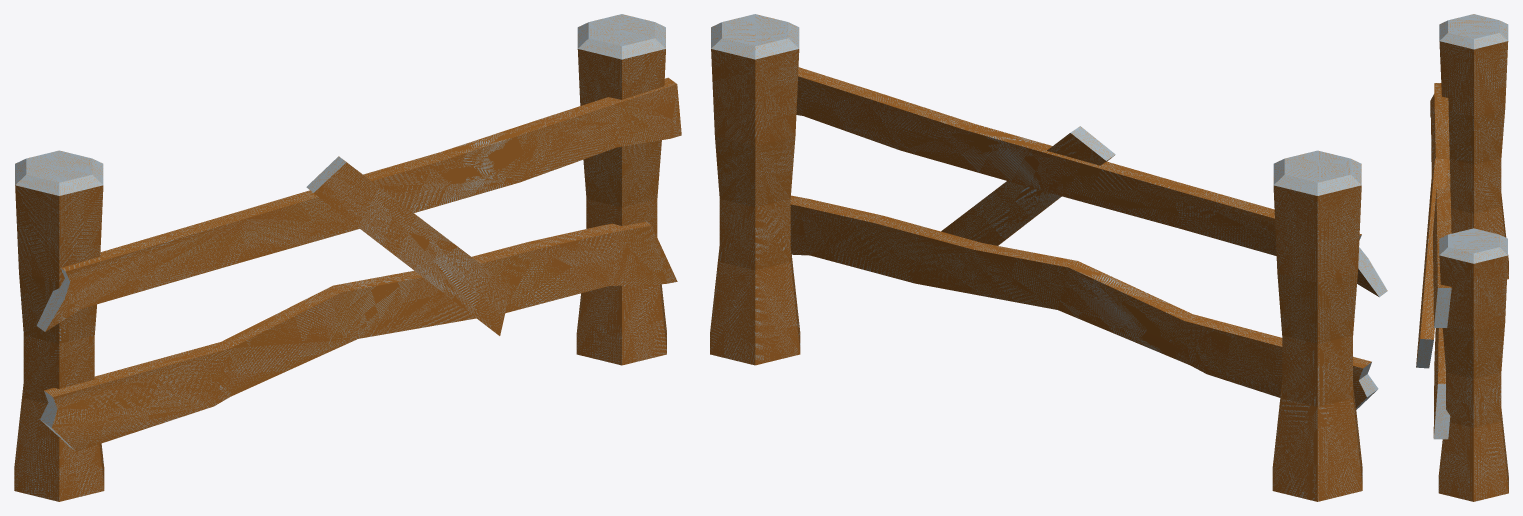
Rendered from Fence_Small_Timber_05.fbx.
3 renders of one model, left to right at view 1: azimuth 30°, elevation 25°; view 2: azimuth 150°, elevation 25°; view 3: azimuth 270°, elevation 25°, orthographic. The views are drawn at different scales.
Parts seen in each view (by area): view 1: Model; view 2: Model; view 3: Model.
Part boxes in pixels (bbox=[...]): Model: bbox=[14, 14, 681, 501]; Model: bbox=[710, 14, 1387, 501]; Model: bbox=[1416, 14, 1508, 501].
Bounding box in the file's own units: 676 × 311 × 107.
